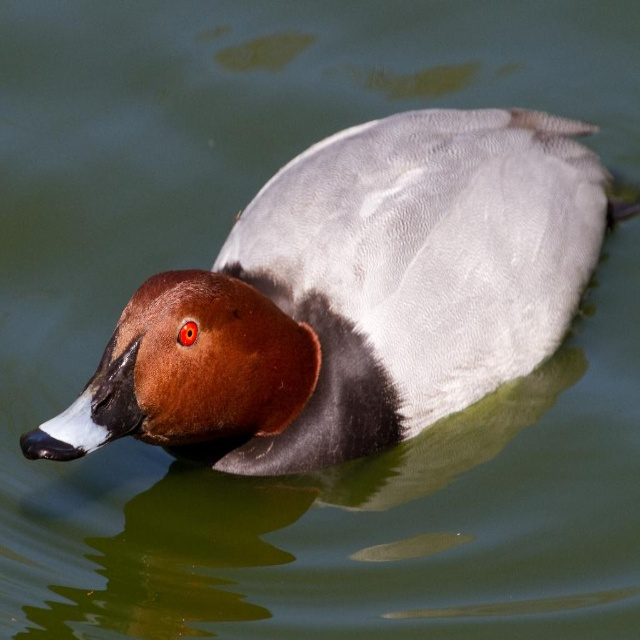Duck: (42, 65, 632, 515)
